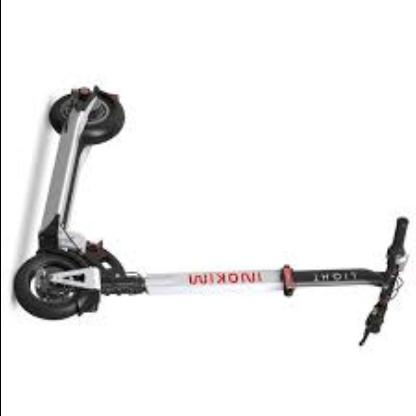bike: (14, 85, 412, 324), (13, 86, 147, 320)
